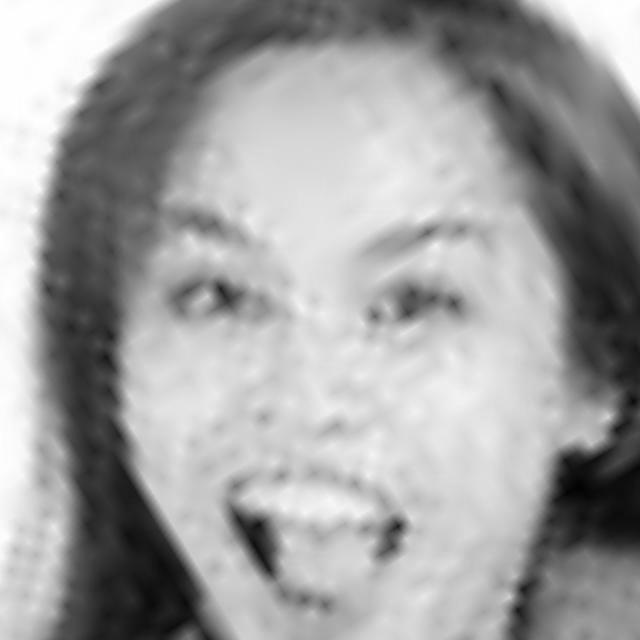Happiness: (41, 1, 640, 640)
